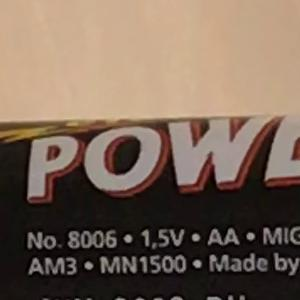1,5V: (133, 220, 194, 256)
